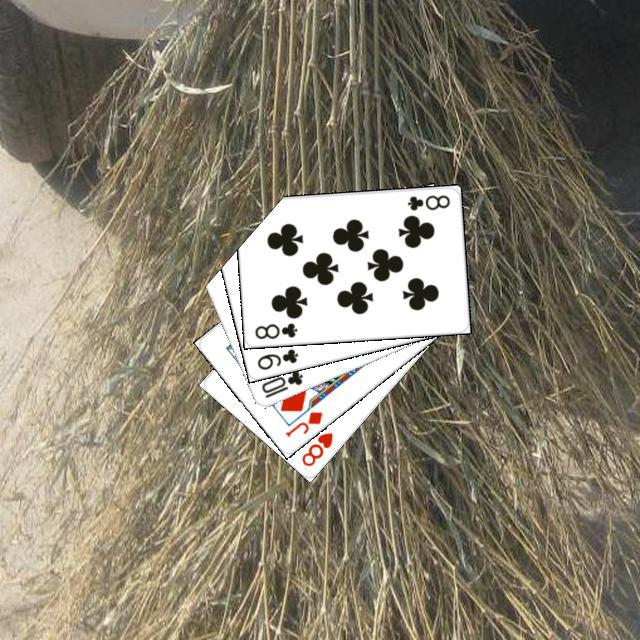10c: (256, 366, 305, 400)
8c: (250, 318, 299, 341), (402, 190, 451, 212)
8h: (296, 427, 335, 468)
9c: (252, 344, 300, 372)
Jd: (280, 406, 324, 438)
